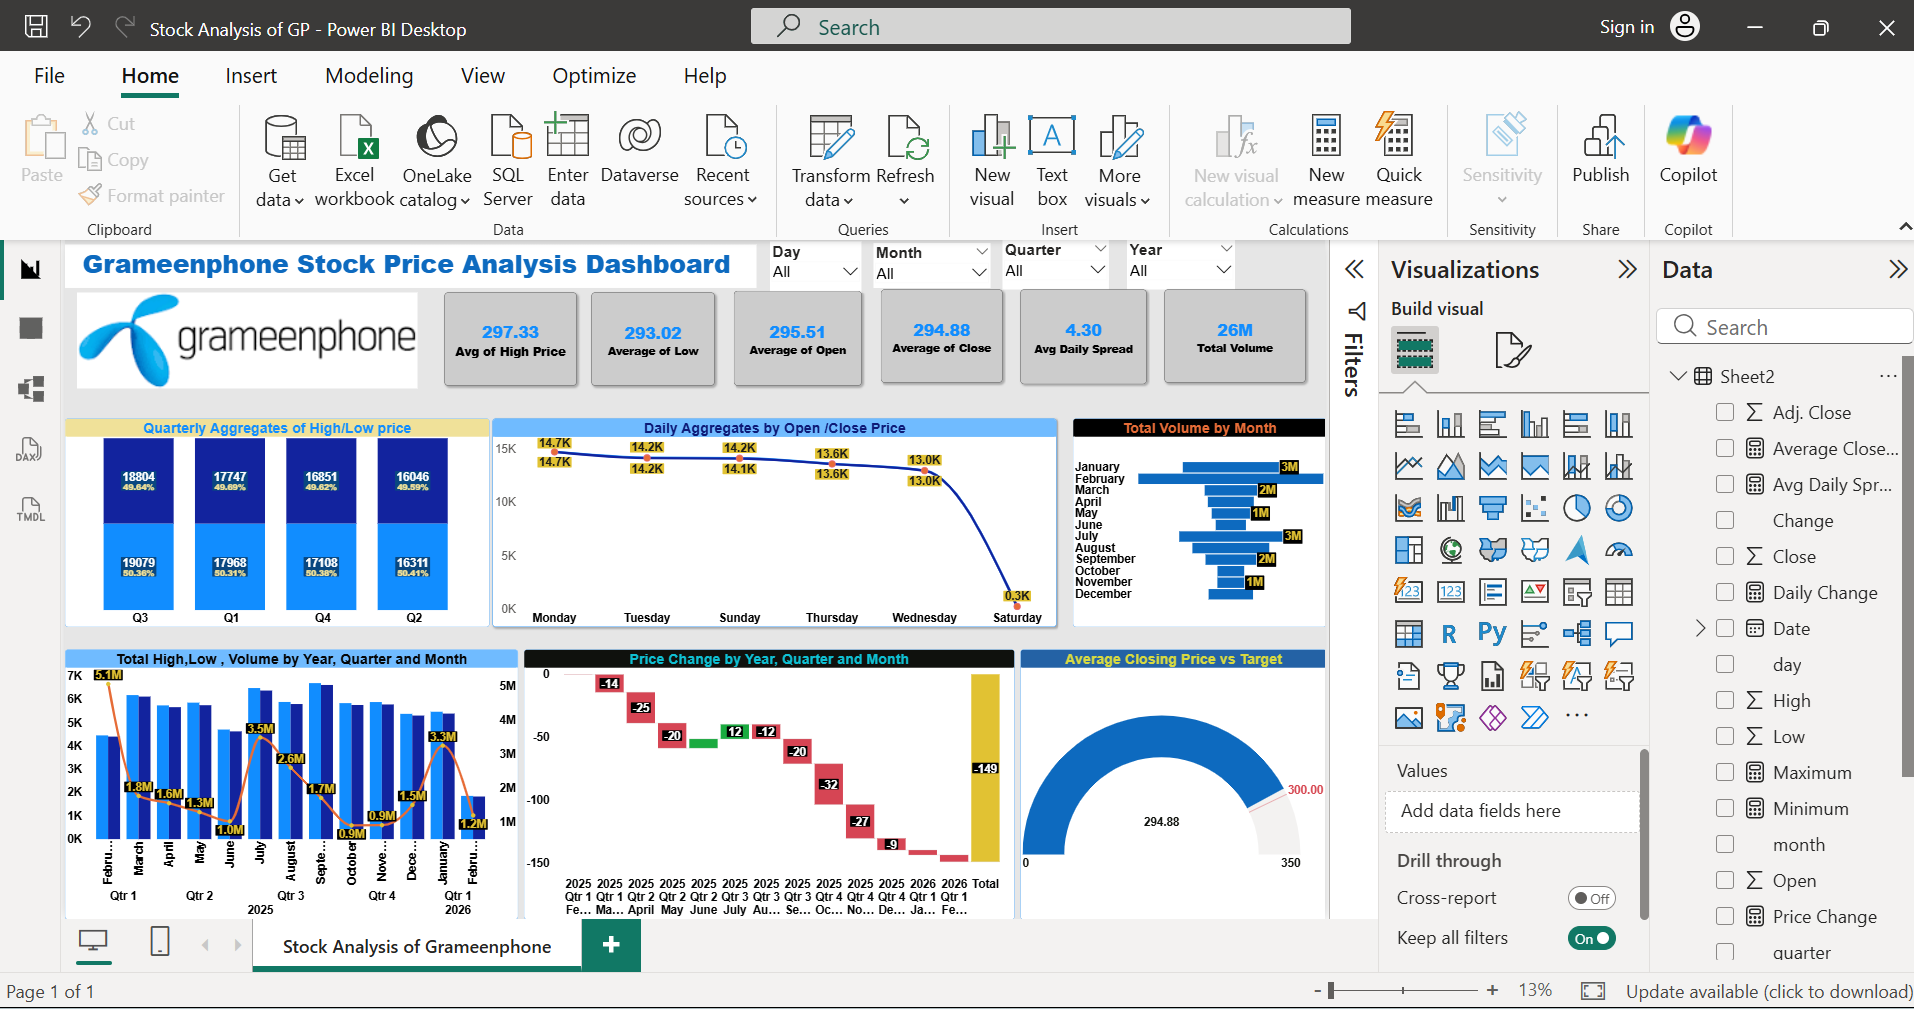

What the dashboard file says about the page in this screenshot:
{"tool":"powerbi","page":{"name":"Stock Analysis of Grameenphone ","canvas":[6500,3500],"ordinal":0},"visuals":[{"type":"slicer","fields":{"Values":["Sheet2.day"]},"box":[3634.1,7.7,471.7,262.9],"z":0},{"type":"slicer","fields":{"Values":["Sheet2.month"]},"box":[4167.6,15.5,603.1,232],"z":1000},{"type":"slicer","fields":{"Values":["Sheet2.quarter"]},"box":[4832.6,0,549,255.2],"z":2000},{"type":"slicer","fields":{"Values":["Table1.year"]},"box":[5474.4,0,556.7,255.2],"z":3000},{"type":"card","fields":{"Values":["Avg(Table1.Low)"]},"box":[2714,270.6,634,479.4],"z":4000},{"type":"card","fields":{"Values":["Avg(Table1.High)"]},"box":[1956.2,270.6,680.4,479.4],"z":5000},{"type":"card","fields":{"Values":["Avg(Sheet2.Open)"]},"box":[3448.5,262.9,657.2,487.1],"z":6000},{"type":"card","fields":{"Values":["Avg(Table1.Close)"]},"box":[4206.3,255.2,626.3,479.4],"z":7000},{"type":"card","fields":{"Values":["Sheet2.Total Volume"]},"box":[5667.7,255.2,726.8,479.4],"z":8000},{"type":"card","fields":{"Values":["Sheet2.Avg Daily Spread"]},"box":[4925.4,255.2,649.5,487.1],"z":9000},{"type":"hundredPercentStackedColumnChart","title":"Quarterly Aggregates of High/Low price ","fields":{"Category":["Table1.quarter"],"Y":["Sum(Table1.High)","Sum(Table1.Low)"]},"box":[0,920.1,2188.2,1074.8],"z":10000},{"type":"lineChart","title":"Daily Aggregates by Open /Close Price","fields":{"Category":["Sheet2.day"],"Y":["Sum(Sheet2.Open)","Sum(Sheet2.Close)"]},"box":[2203.7,920.1,2907.3,1074.8],"z":11000},{"type":"funnel","title":"Total Volume by Month","fields":{"Y":["Sum(Table1.Volume)"],"Category":["Table1.Date.Variation.Date Hierarchy.Month"]},"box":[5196,920.1,1306.7,1074.8],"z":12000},{"type":"lineClusteredColumnComboChart","title":"Total High,Low , Volume by Year, Quarter and Month","fields":{"Y":["Sum(Sheet2.High)","Sum(Sheet2.Low)"],"Y2":["Sum(Sheet2.Volume)"],"Category":["Table1.Date.Variation.Date Hierarchy.Year","Table1.Date.Variation.Date Hierarchy.Quarter","Table1.Date.Variation.Date Hierarchy.Month","Sheet2.day"]},"box":[0,2110.9,2335.1,1391.8],"z":13000},{"type":"waterfallChart","fields":{"Category":["Sheet2.Date.Variation.Date Hierarchy.Year","Sheet2.Date.Variation.Date Hierarchy.Quarter","Sheet2.Date.Variation.Date Hierarchy.Month"],"Y":["Sheet2.Price Change"]},"box":[2366,2110.9,2528.4,1391.8],"z":14000},{"type":"gauge","title":"Average Closing Price vs Target","fields":{"MinValue":["Sheet2.Minimum"],"TargetValue":["Avg(Sheet2.Target Dynamic)"],"MaxValue":["Sheet2.Maximum"],"Y":["Sheet2.Average Close price"]},"box":[4925.4,2110.9,1577.4,1391.8],"z":15000},{"type":"textbox","box":[0,23.2,3564.5,224.2],"z":16000},{"type":"image","box":[61.9,270.6,1755.2,494.9],"z":17000}]}

Visuals, with their boxes on the page's 6500x3500 design canvas (x1, y1, x2, y2). These are canvas units, not pixel positions in the 1914x1009 screenshot, which may show the page scaled, cropped or inside an application window:
slicer - Sheet2.day: region(3634, 8, 4106, 271)
slicer - Sheet2.month: region(4168, 16, 4771, 248)
slicer - Sheet2.quarter: region(4833, 0, 5382, 255)
slicer - Table1.year: region(5474, 0, 6031, 255)
card - Avg(Table1.Low): region(2714, 271, 3348, 750)
card - Avg(Table1.High): region(1956, 271, 2637, 750)
card - Avg(Sheet2.Open): region(3448, 263, 4106, 750)
card - Avg(Table1.Close): region(4206, 255, 4833, 735)
card - Sheet2.Total Volume: region(5668, 255, 6394, 735)
card - Sheet2.Avg Daily Spread: region(4925, 255, 5575, 742)
"Quarterly Aggregates of High/Low price " hundredPercentStackedColumnChart: region(0, 920, 2188, 1995)
"Daily Aggregates by Open /Close Price" lineChart: region(2204, 920, 5111, 1995)
"Total Volume by Month" funnel: region(5196, 920, 6503, 1995)
"Total High,Low , Volume by Year, Quarter and Month" lineClusteredColumnComboChart: region(0, 2111, 2335, 3503)
waterfallChart - Sheet2.Date.Variation.Date Hierarchy.Year x Sheet2.Date.Variation.Date Hierarchy.Quarter: region(2366, 2111, 4894, 3503)
"Average Closing Price vs Target" gauge: region(4925, 2111, 6503, 3503)
textbox: region(0, 23, 3564, 247)
image: region(62, 271, 1817, 766)
